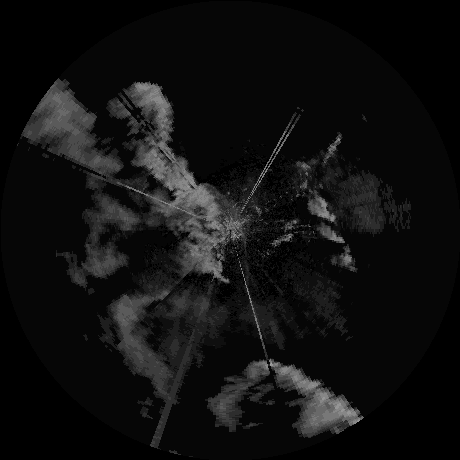frontgust: (241, 239, 252, 283)
